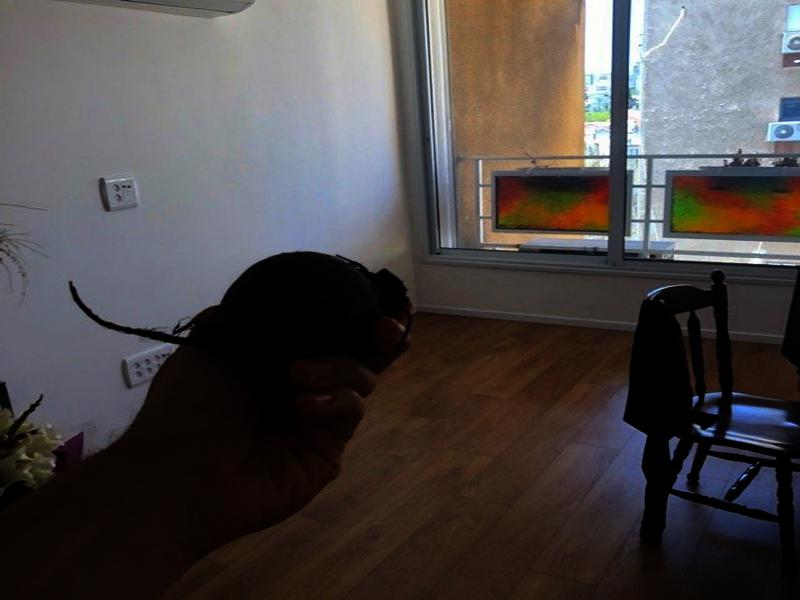Beet: (71, 252, 414, 365)
